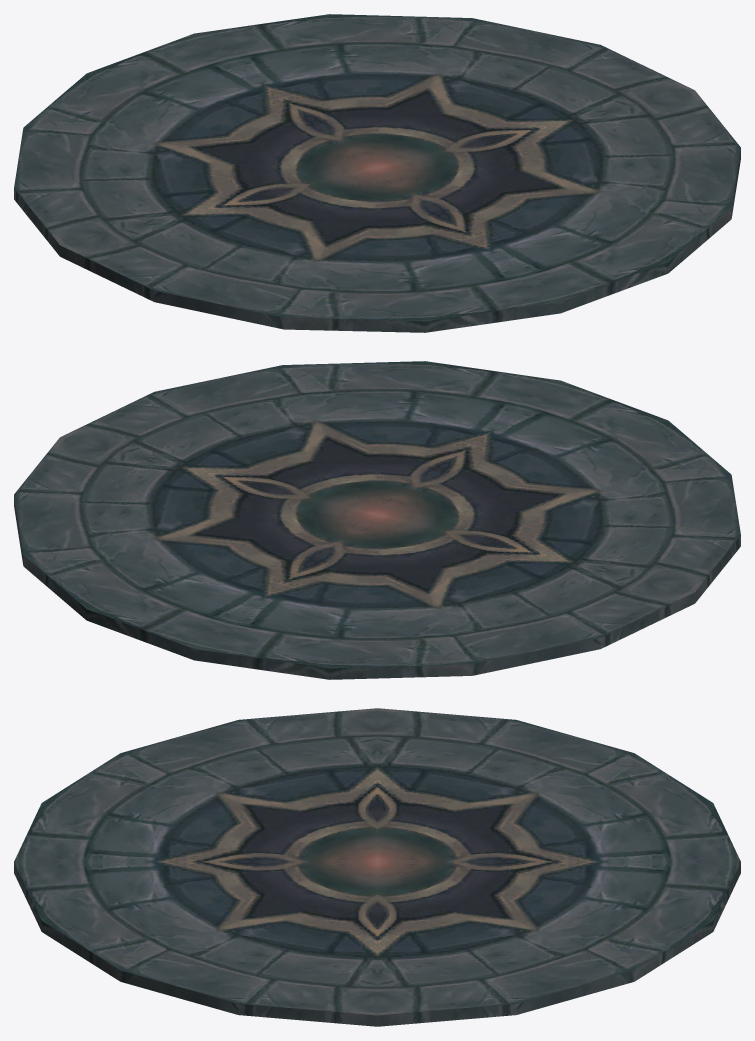
Rendered from chnagjing_sjb_05.FBX.
The picture shows the model from 3 angles, top to bottom: view 1: azimuth 30°, elevation 25°; view 2: azimuth 150°, elevation 25°; view 3: azimuth 270°, elevation 25°; orthographic projection.
Visible parts, largest first — view 1: chnagjing_sjb_05; view 2: chnagjing_sjb_05; view 3: chnagjing_sjb_05.
Boxes of the visible parts, x1,y1,x2,y2 form: chnagjing_sjb_05: [14, 14, 740, 332]; chnagjing_sjb_05: [14, 361, 740, 679]; chnagjing_sjb_05: [14, 708, 740, 1026].
Size of the model in its own units: 544 by 544 by 9.61.
